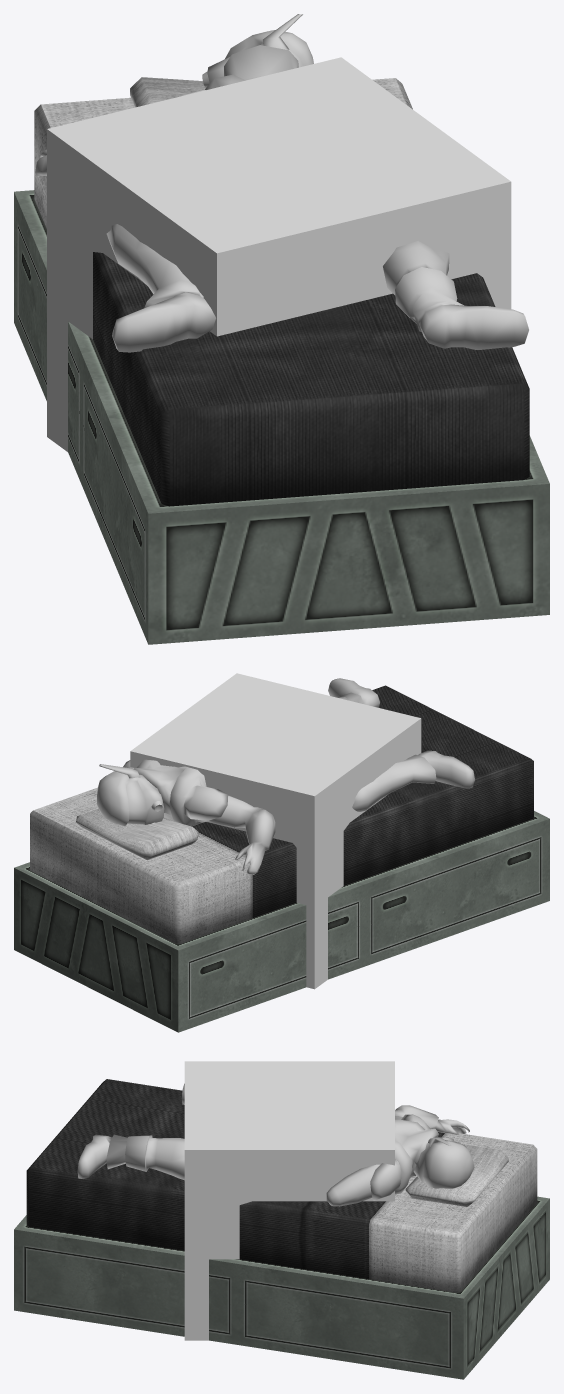
Rendered from pbscen07.FBX.
3 renders of one model, top to bottom at view 1: azimuth 30°, elevation 25°; view 2: azimuth 150°, elevation 25°; view 3: azimuth 270°, elevation 25°, orthographic. The views are drawn at different scales.
Visible parts, largest first — view 1: pbscen07, hp_dummyroot, objdpil007; view 2: pbscen07, hp_dummyroot, objdpil007; view 3: pbscen07, hp_dummyroot, objdpil007.
Boxes of the visible parts, <box> form: pbscen07: <box>14,77,549,644</box>; hp_dummyroot: <box>47,57,511,451</box>; objdpil007: <box>35,14,528,352</box>; pbscen07: <box>14,685,549,1032</box>; hp_dummyroot: <box>130,673,421,989</box>; objdpil007: <box>96,678,474,874</box>; pbscen07: <box>14,1079,549,1379</box>; hp_dummyroot: <box>184,1061,394,1340</box>; objdpil007: <box>77,1083,474,1206</box>.
Bounding box in the file's own units: 1.91 × 2.55 × 1.03.
